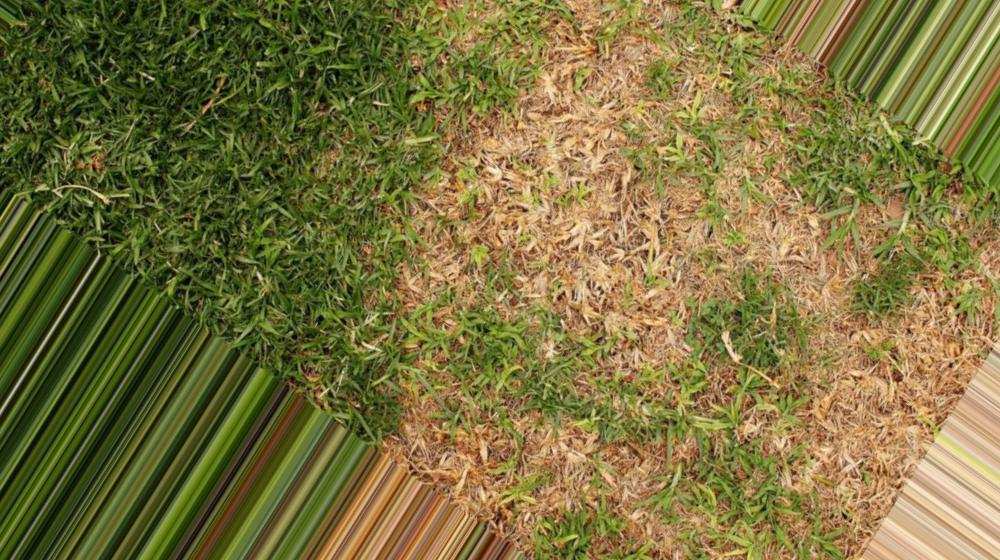patch: (456, 43, 804, 504), (827, 209, 918, 462)
